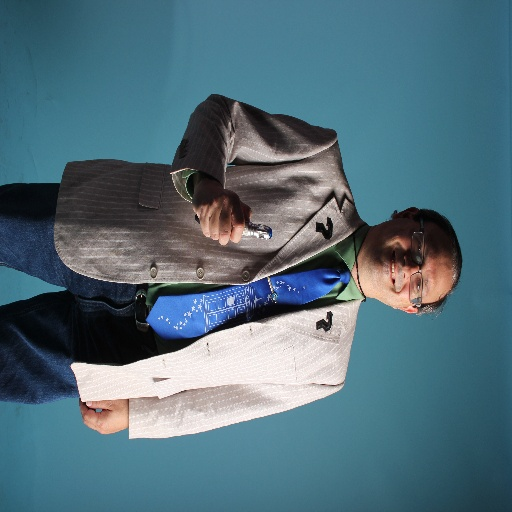hand: (194, 174, 250, 238), (78, 397, 127, 436)
